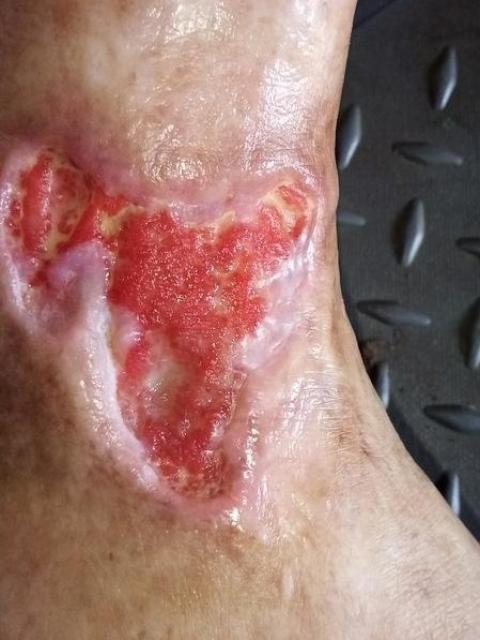wound: (5, 145, 309, 502)
